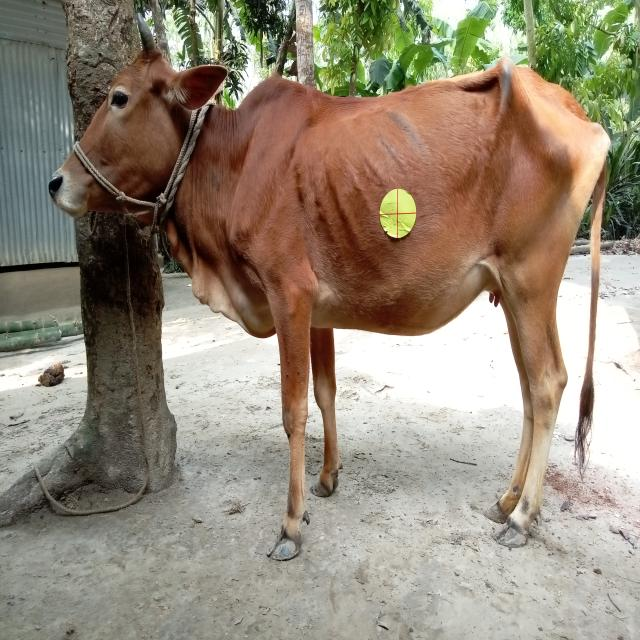badan_sapi: (246, 93, 605, 338)
sapi: (48, 19, 622, 568)
